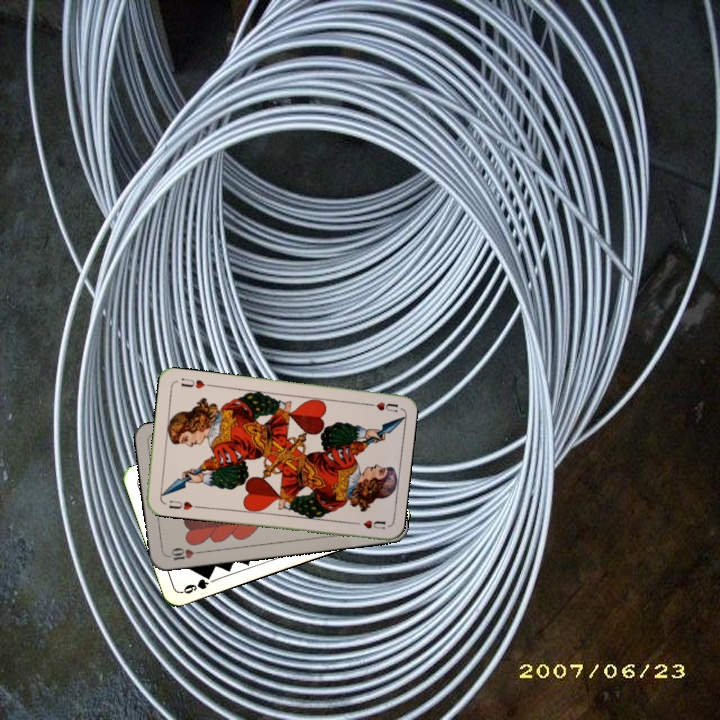G9: (177, 570, 214, 596)
H10: (164, 544, 205, 564)
HU: (361, 398, 401, 415), (165, 496, 195, 513)
